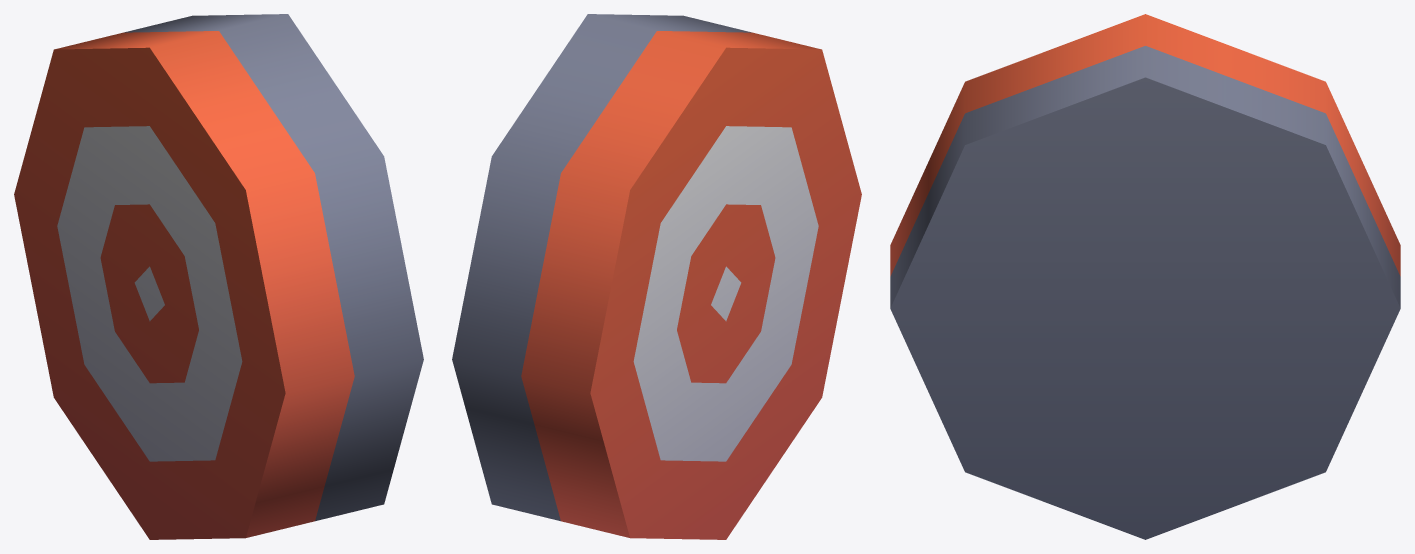
Rendered from target-large.glb.
3 views of the same model, side by side, from view 1: azimuth 30°, elevation 25°; view 2: azimuth 150°, elevation 25°; view 3: azimuth 270°, elevation 25° (orthographic). The views are drawn at different scales.
Visible parts, largest first — view 1: target-large; view 2: target-large; view 3: target-large.
Boxes of the visible parts, box(x1,y1,x2,y2) form: target-large: box(14, 14, 423, 539); target-large: box(452, 14, 861, 539); target-large: box(890, 14, 1400, 539).
Size of the model in its own units: 0.1 by 0.34 by 0.34.
1 material, 1 textured.
